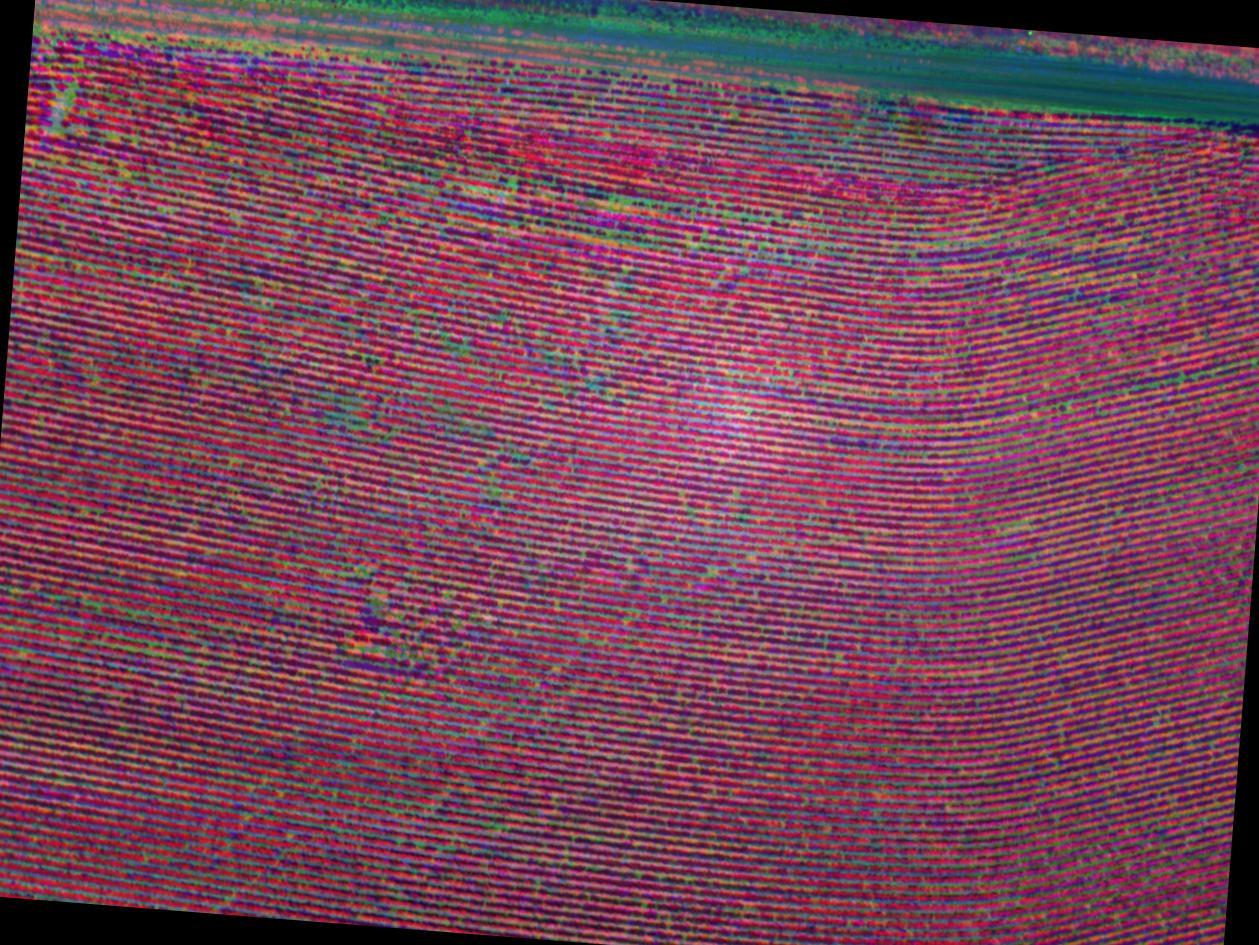dc: (585, 157, 749, 255), (336, 561, 455, 695), (22, 33, 116, 170), (436, 129, 549, 226), (359, 367, 475, 456)
